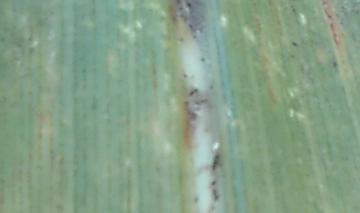tarspot: (212, 154, 219, 171), (211, 189, 220, 202), (189, 88, 197, 97), (187, 21, 194, 30), (210, 179, 217, 186), (292, 41, 299, 48), (200, 56, 207, 62), (193, 196, 199, 203), (333, 62, 339, 67), (182, 73, 188, 78), (192, 34, 197, 40), (179, 7, 183, 12), (187, 3, 192, 7), (177, 1, 182, 4)
